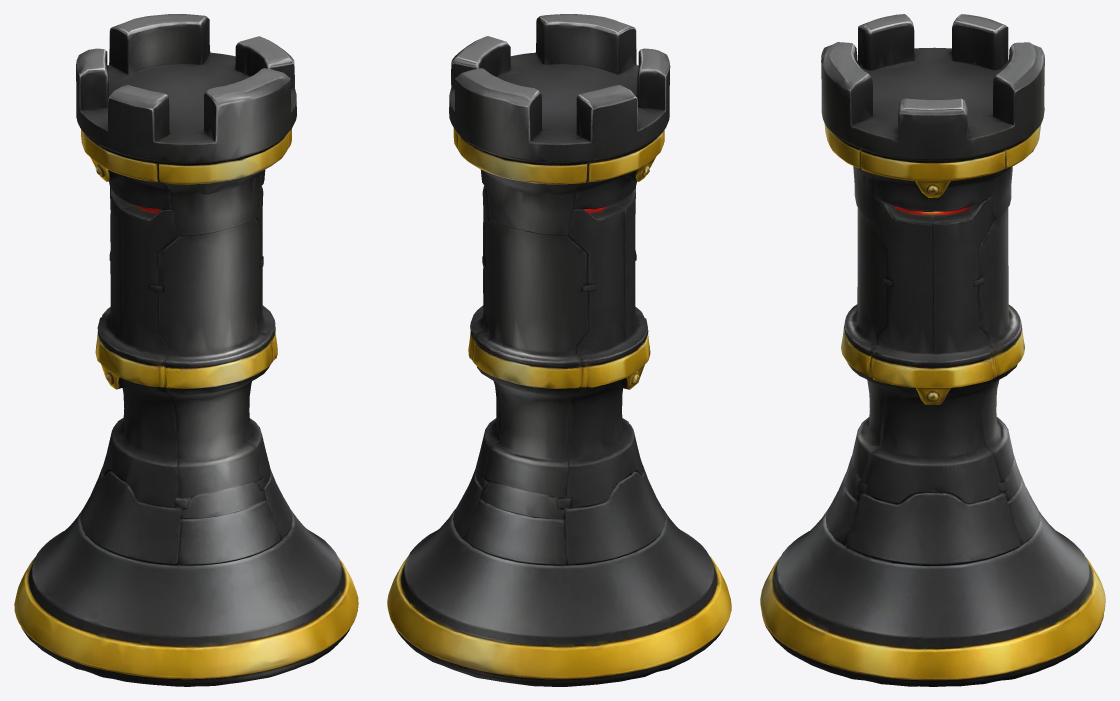
File: rook_chess.glb
The picture shows the model from 3 angles, left to right: view 1: azimuth 30°, elevation 25°; view 2: azimuth 150°, elevation 25°; view 3: azimuth 270°, elevation 25°; orthographic projection.
Visible parts, largest first — view 1: tripo_node_2ab2559a-b3a9-46aa-9374-08dd5344d2ba; view 2: tripo_node_2ab2559a-b3a9-46aa-9374-08dd5344d2ba; view 3: tripo_node_2ab2559a-b3a9-46aa-9374-08dd5344d2ba.
Boxes of the visible parts, box(x1,y1,x2,y2) form: tripo_node_2ab2559a-b3a9-46aa-9374-08dd5344d2ba: box(14, 14, 358, 686); tripo_node_2ab2559a-b3a9-46aa-9374-08dd5344d2ba: box(387, 14, 731, 686); tripo_node_2ab2559a-b3a9-46aa-9374-08dd5344d2ba: box(760, 14, 1105, 686).
Size of the model in its own units: 0.5557 by 1 by 0.552.
1 material, 1 textured.
